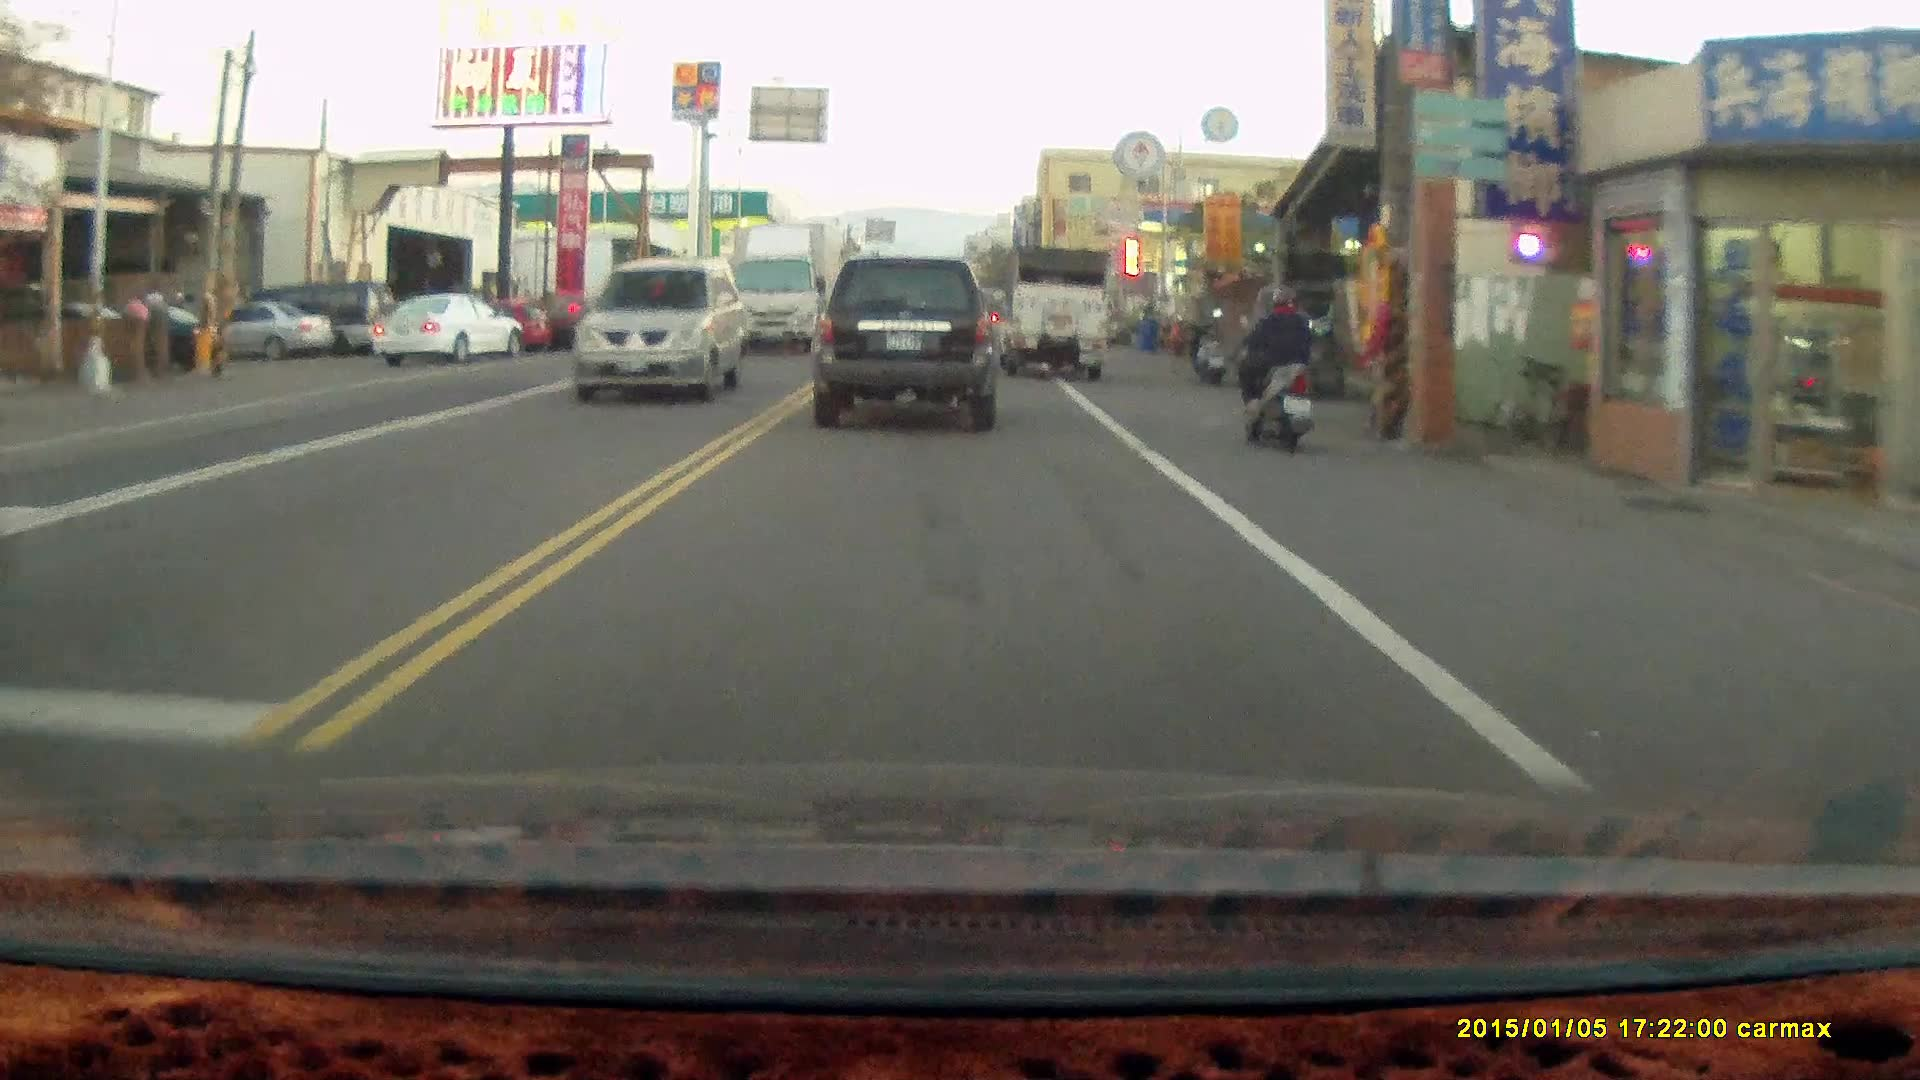rider: (1224, 286, 1318, 456)
vehicle: (809, 254, 998, 431), (572, 261, 745, 406), (993, 243, 1108, 379), (734, 223, 837, 357), (371, 297, 525, 365), (218, 303, 341, 361)
